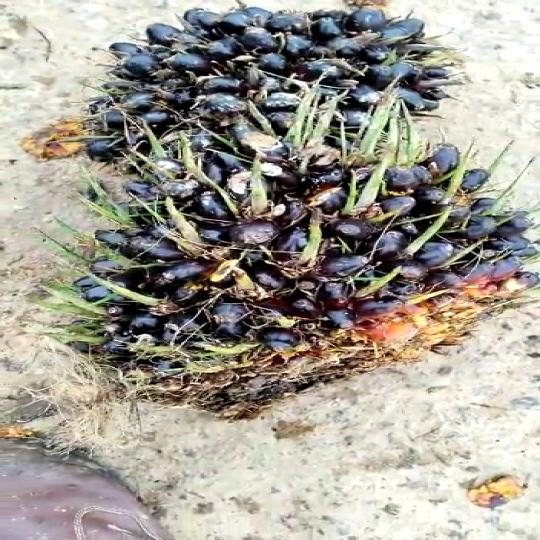mentah: (66, 157, 519, 414), (78, 0, 460, 166)
